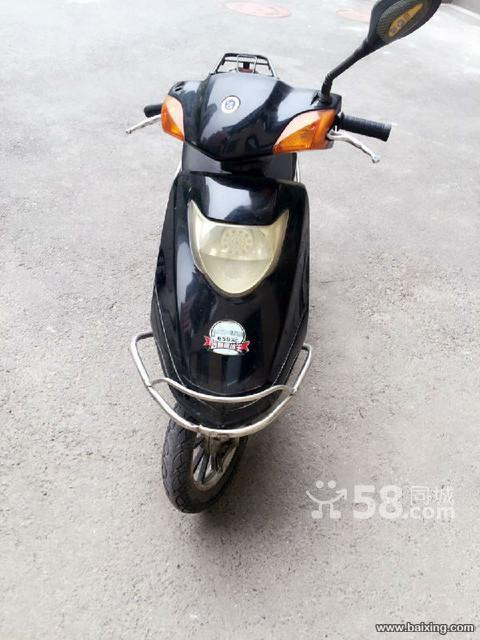电动车: (74, 1, 454, 535)
